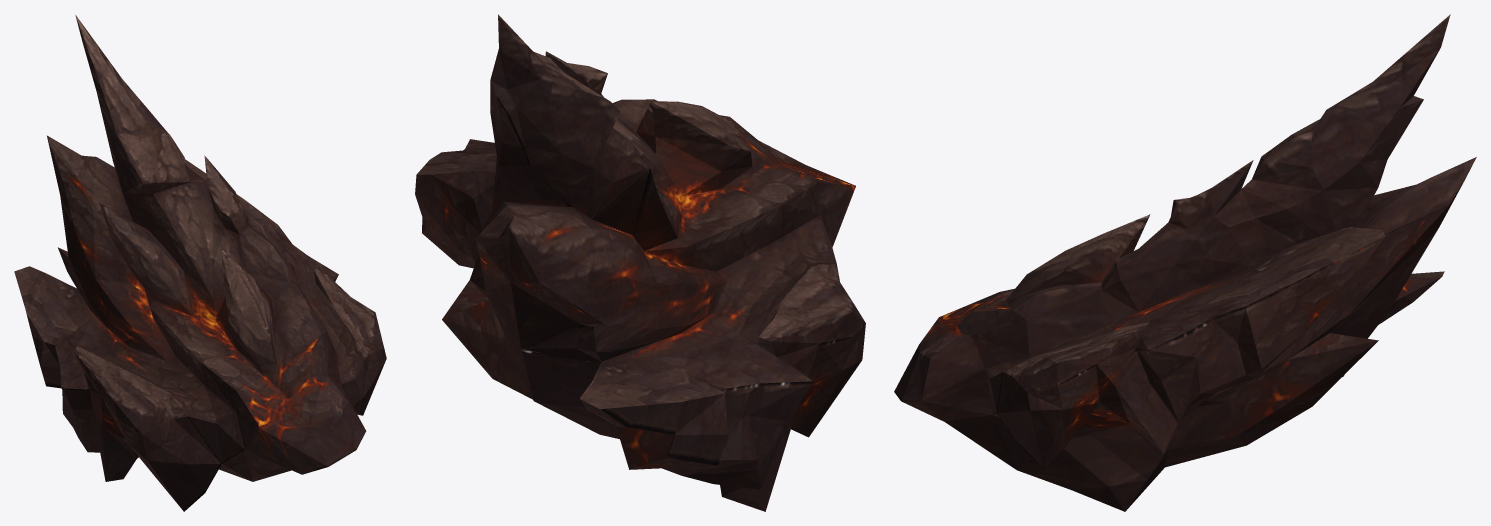
The model's file is sn_jingyanFB_shanshi01_03.FBX.
3 views of the same model, side by side, from view 1: azimuth 30°, elevation 25°; view 2: azimuth 150°, elevation 25°; view 3: azimuth 270°, elevation 25° (orthographic). The views are drawn at different scales.
Visible parts, largest first — view 1: sn_jingyanFB_shanshi01_03; view 2: sn_jingyanFB_shanshi01_03; view 3: sn_jingyanFB_shanshi01_03.
Boxes of the visible parts, bbox=[...] form: sn_jingyanFB_shanshi01_03: bbox=[14, 15, 386, 511]; sn_jingyanFB_shanshi01_03: bbox=[415, 14, 865, 511]; sn_jingyanFB_shanshi01_03: bbox=[894, 14, 1476, 511].
Size of the model in its own units: 1849 by 3019 by 2647.
